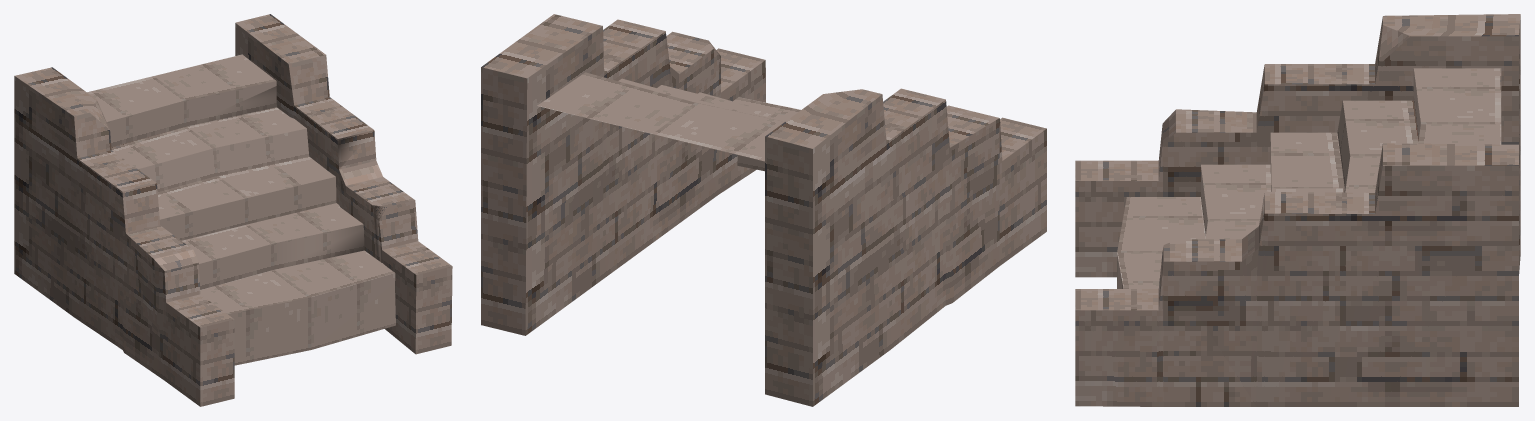
File: stairs_stone_stone.glb
3 renders of one model, left to right at view 1: azimuth 30°, elevation 25°; view 2: azimuth 150°, elevation 25°; view 3: azimuth 270°, elevation 25°, orthographic. The views are drawn at different scales.
Parts seen in each view (by area): view 1: stairs_stone_stone; view 2: stairs_stone_stone; view 3: stairs_stone_stone.
Part boxes in pixels (bbox=[...]): stairs_stone_stone: bbox=[14, 14, 452, 406]; stairs_stone_stone: bbox=[481, 14, 1046, 406]; stairs_stone_stone: bbox=[1075, 14, 1520, 406].
Size of the model in its own units: 2.55 by 1.87 by 3.14.
Materials: 1 (1 with a texture image).
